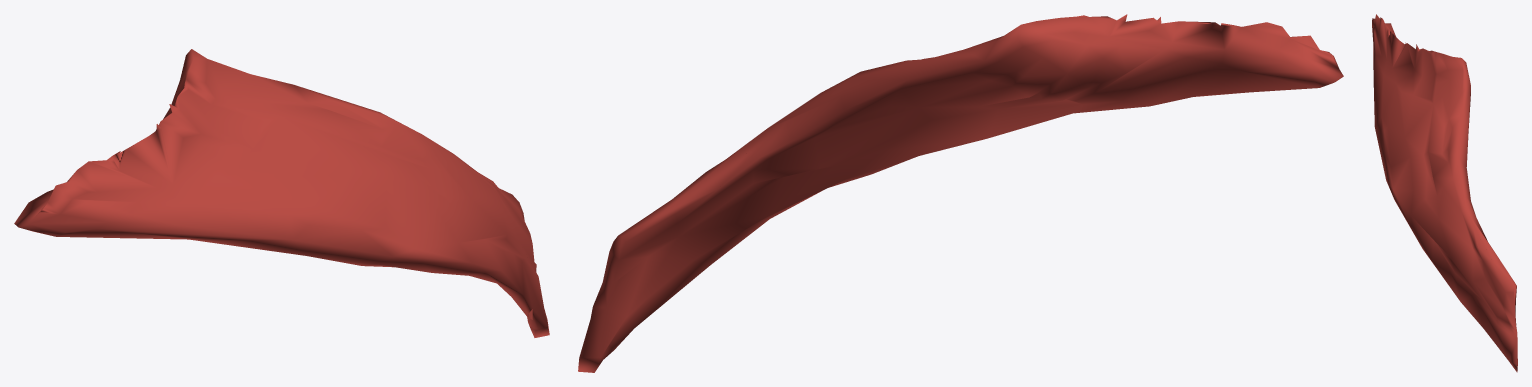
The model's file is musculos-clavicular-head-of-pectoralis-major-muscle-l.glb.
The picture shows the model from 3 angles, left to right: view 1: azimuth 30°, elevation 25°; view 2: azimuth 150°, elevation 25°; view 3: azimuth 270°, elevation 25°; orthographic projection. The views are drawn at different scales.
Visible parts, largest first — view 1: Clavicular head of pectoralis major muscle.l; view 2: Clavicular head of pectoralis major muscle.l; view 3: Clavicular head of pectoralis major muscle.l.
Part boxes in pixels (x1=…): Clavicular head of pectoralis major muscle.l: x1=14, y1=49, x2=549, y2=337; Clavicular head of pectoralis major muscle.l: x1=578, y1=14, x2=1343, y2=372; Clavicular head of pectoralis major muscle.l: x1=1372, y1=14, x2=1517, y2=372.
Bounding box in the file's own units: 0.173 × 0.1054 × 0.065.
